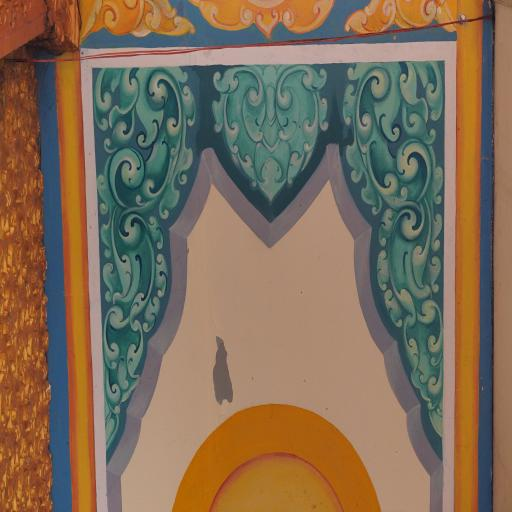hoa: (76, 0, 200, 52), (186, 0, 346, 35), (350, 0, 460, 39)
la: (93, 68, 203, 458), (339, 66, 449, 453), (0, 64, 54, 512), (212, 62, 328, 204)
